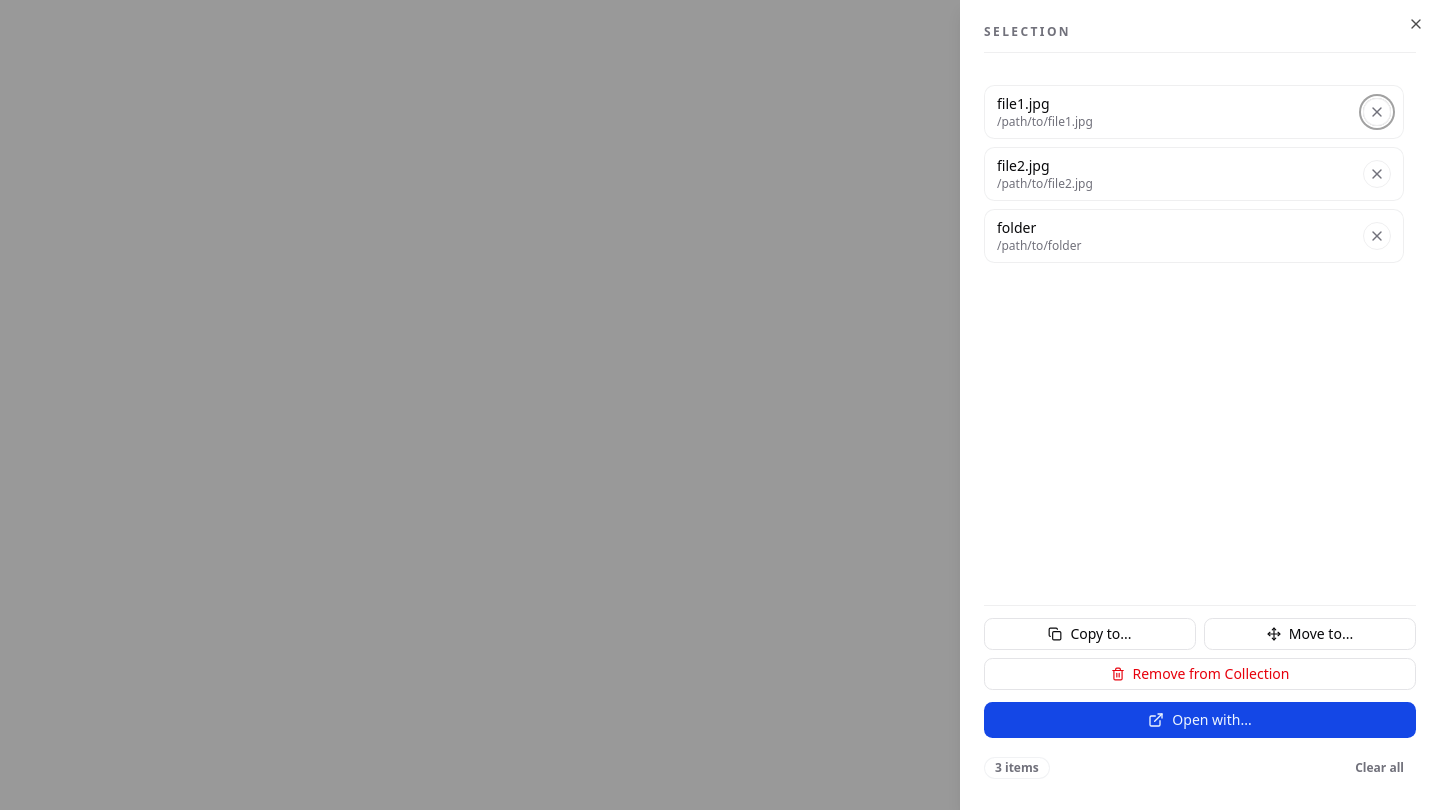
Test: CollectionSelectionSheet › closes the resolution modal when cancel is clicked
Click the button "Open with...". click: (1200, 720)
box: [984,702,1416,738]
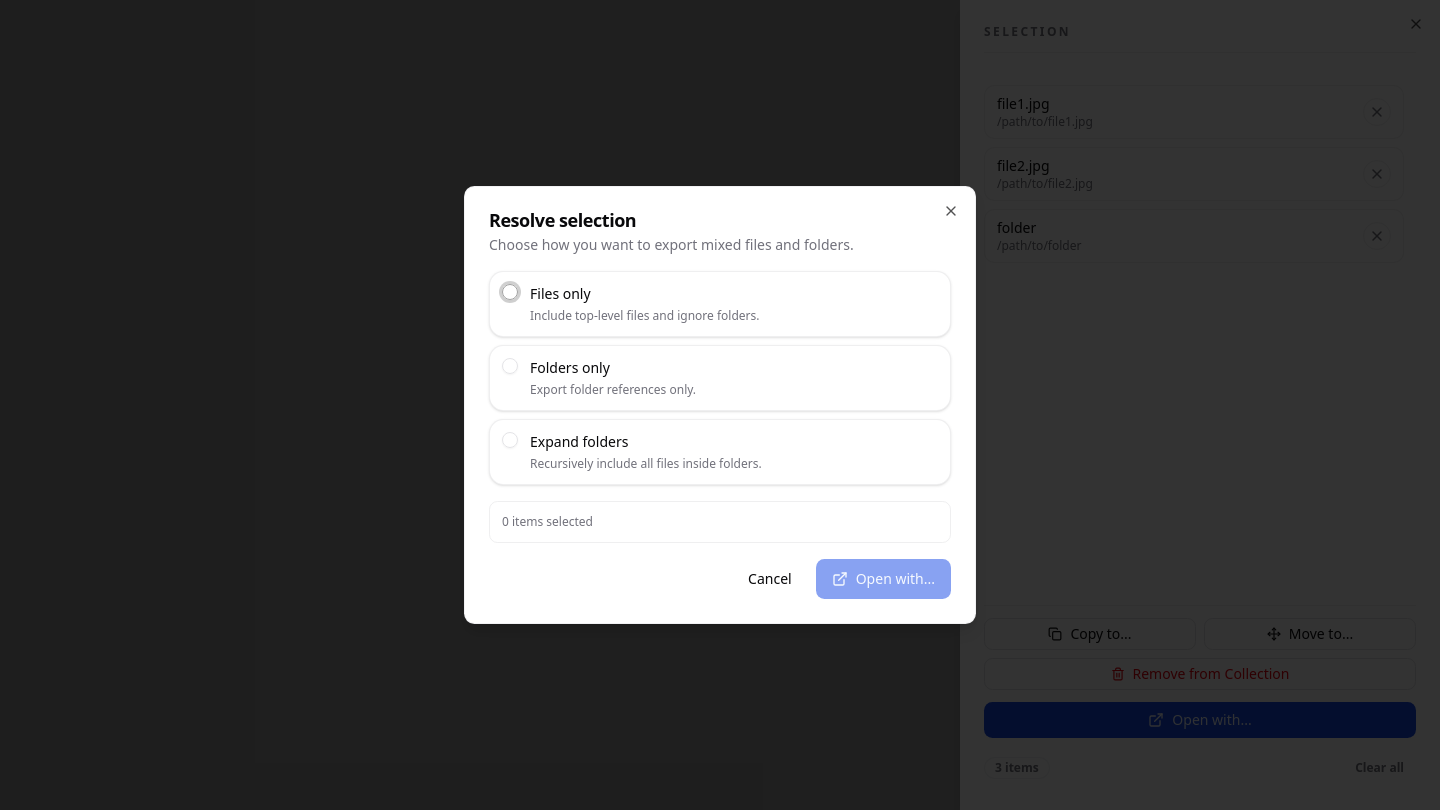
Click the button "Cancel". click: (770, 579)
box: [732,559,808,599]
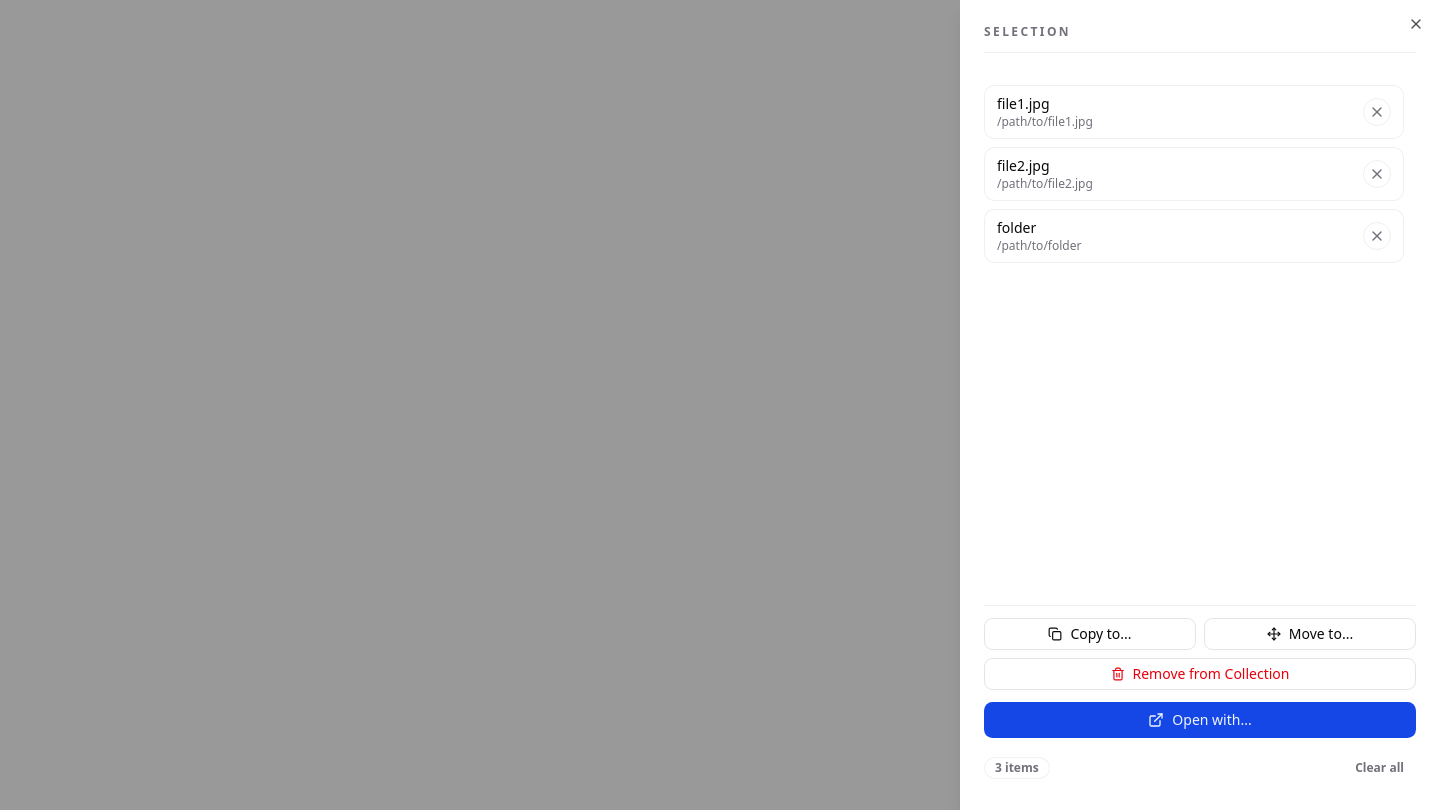
Expected: the button "Open with..." is shown, [984,702,1416,738]
Now the heading "Resolve selection" is gone
